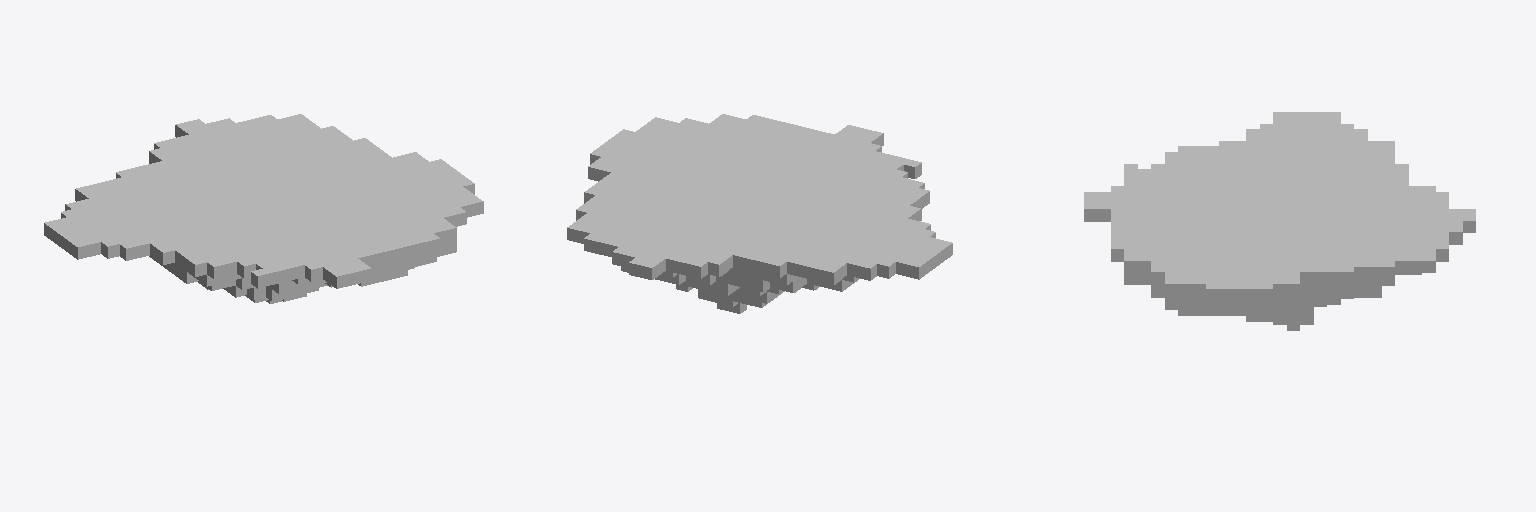
Rendered from Ice 6.obj.
The picture shows the model from 3 angles: view 1: azimuth 30°, elevation 25°; view 2: azimuth 150°, elevation 25°; view 3: azimuth 270°, elevation 25°; orthographic projection.
Parts seen in each view (by area): view 1: object 1; view 2: object 1; view 3: object 1.
Part boxes in pixels (left/top/right/bottom): object 1: left=44, top=114, right=483, bottom=303; object 1: left=567, top=114, right=952, bottom=313; object 1: left=1084, top=112, right=1475, bottom=330.
Bounding box in the file's own units: 3.1 × 0.9 × 2.9.